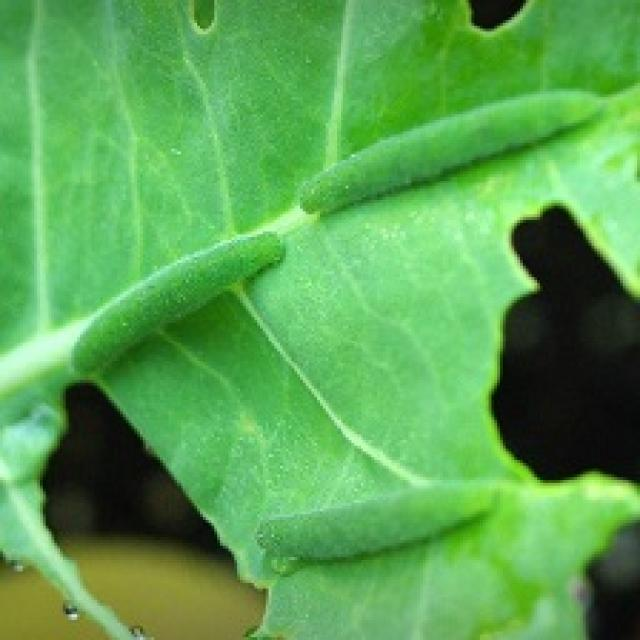Cabbage-worm: (302, 79, 601, 230), (73, 231, 302, 393), (252, 479, 508, 567)
